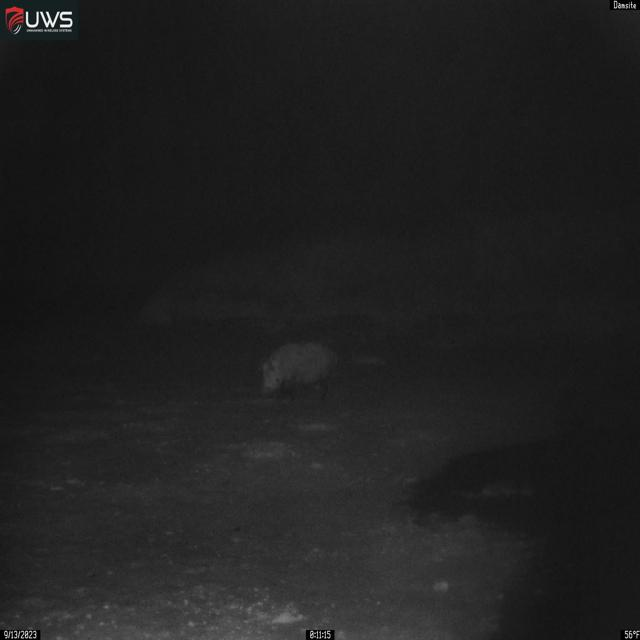pig: (259, 340, 341, 405)
